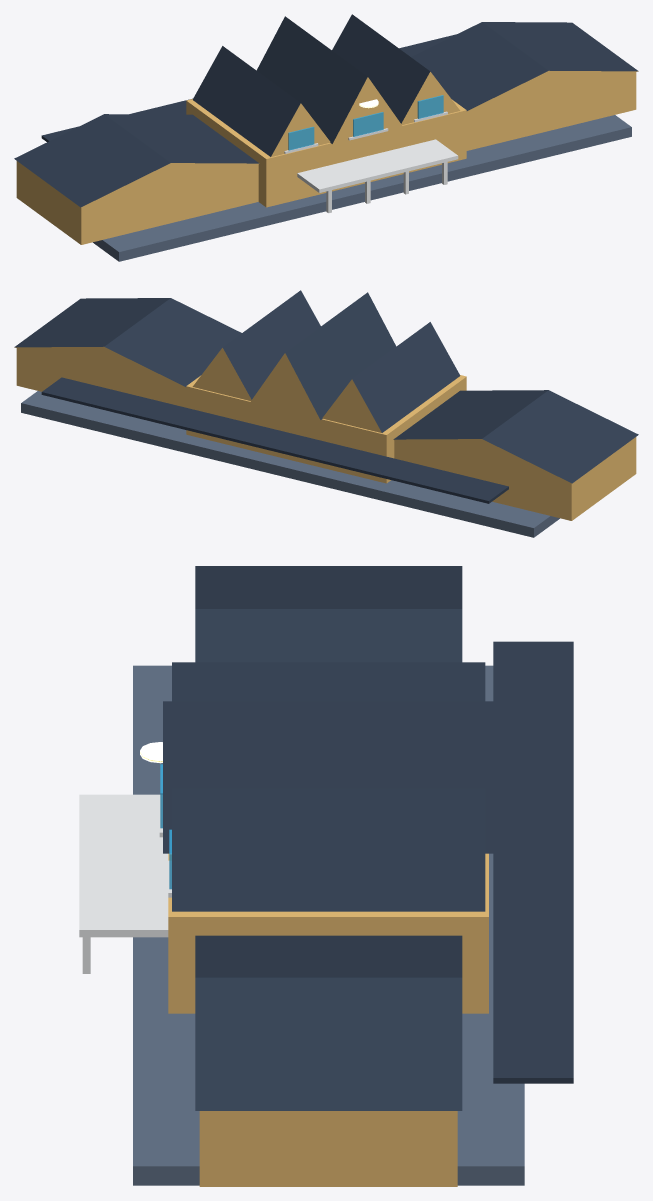
Rendered from lm_02_ga_da_lat_base.glb.
3 views of the same model, one above another, from view 1: azimuth 30°, elevation 25°; view 2: azimuth 150°, elevation 25°; view 3: azimuth 270°, elevation 25° (orthographic). The views are drawn at different scales.
Visible parts, largest first — view 1: plinth_main, wing_west, central_hall, wing_roof_w_slope_l, gable_center_slope_l, wing_east, wing_roof_e_slope_l, gable_left_slope_l, gable_right_slope_l, wing_roof_e_slope_r, wing_roof_w_slope_r, front_canopy (+9 smaller); view 2: plinth_main, rear_platform_canopy, wing_roof_w_slope_l, wing_west, central_hall, gable_center_slope_l, wing_roof_e_slope_l, gable_left_slope_l, gable_right_slope_l, wing_roof_e_slope_r, wing_roof_w_slope_r, wing_east (+5 smaller); view 3: gable_right_slope_r, wing_roof_e_slope_r, rear_platform_canopy, gable_center_slope_r, plinth_main, wing_east, wing_roof_w_slope_r, central_hall, gable_left_slope_r, front_canopy, wing_roof_w_slope_l, wing_roof_e_slope_l.
Part boxes in pixels (bbox=[...]): plinth_main: bbox=[93, 115, 631, 261]; wing_west: bbox=[16, 161, 258, 244]; central_hall: bbox=[186, 99, 466, 207]; wing_roof_w_slope_l: bbox=[14, 114, 170, 207]; gable_center_slope_l: bbox=[256, 16, 367, 143]; wing_east: bbox=[466, 72, 636, 150]; wing_roof_e_slope_l: bbox=[411, 22, 548, 110]; gable_left_slope_l: bbox=[192, 46, 300, 156]; gable_right_slope_l: bbox=[332, 14, 430, 123]; wing_roof_e_slope_r: bbox=[482, 22, 638, 71]; wing_roof_w_slope_r: bbox=[104, 114, 259, 163]; front_canopy: bbox=[297, 139, 458, 192]; plinth_main: bbox=[21, 391, 559, 537]; rear_platform_canopy: bbox=[41, 377, 508, 503]; wing_roof_w_slope_l: bbox=[482, 390, 638, 483]; wing_west: bbox=[394, 437, 636, 520]; central_hall: bbox=[186, 375, 466, 483]; gable_center_slope_l: bbox=[285, 292, 396, 419]; wing_roof_e_slope_l: bbox=[104, 298, 241, 386]; gable_left_slope_l: bbox=[352, 322, 460, 432]; gable_right_slope_l: bbox=[222, 290, 320, 399]; wing_roof_e_slope_r: bbox=[14, 298, 170, 347]; wing_roof_w_slope_r: bbox=[393, 390, 548, 439]; wing_east: bbox=[16, 348, 186, 407]; gable_right_slope_r: bbox=[172, 788, 485, 911]; wing_roof_e_slope_r: bbox=[195, 977, 462, 1110]; rear_platform_canopy: bbox=[493, 641, 573, 1083]; gable_center_slope_r: bbox=[163, 701, 494, 853]; plinth_main: bbox=[133, 665, 524, 1185]; wing_east: bbox=[199, 1111, 457, 1186]; wing_roof_w_slope_r: bbox=[195, 609, 462, 662]; central_hall: bbox=[168, 853, 488, 1013]; gable_left_slope_r: bbox=[172, 662, 485, 701]; front_canopy: bbox=[79, 794, 168, 937]; wing_roof_w_slope_l: bbox=[195, 566, 462, 608]; wing_roof_e_slope_l: bbox=[195, 935, 462, 977].
Size of the model in its own units: 72.4 by 14.5 by 27.75.
